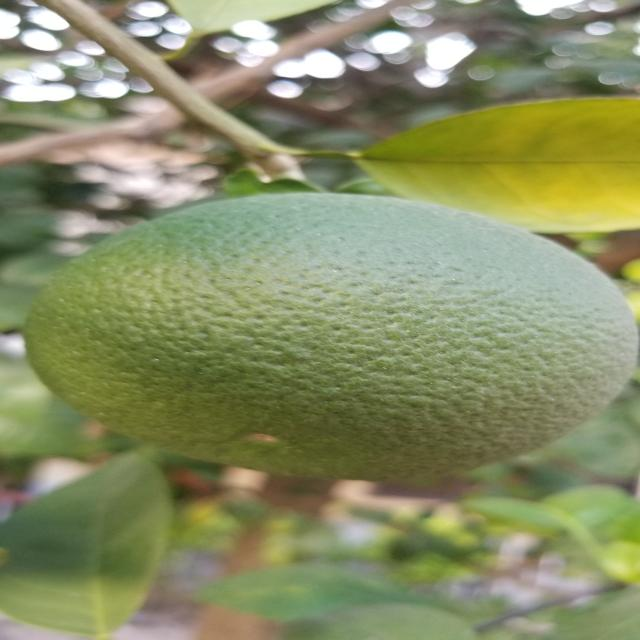Unripe: (16, 188, 640, 472)
